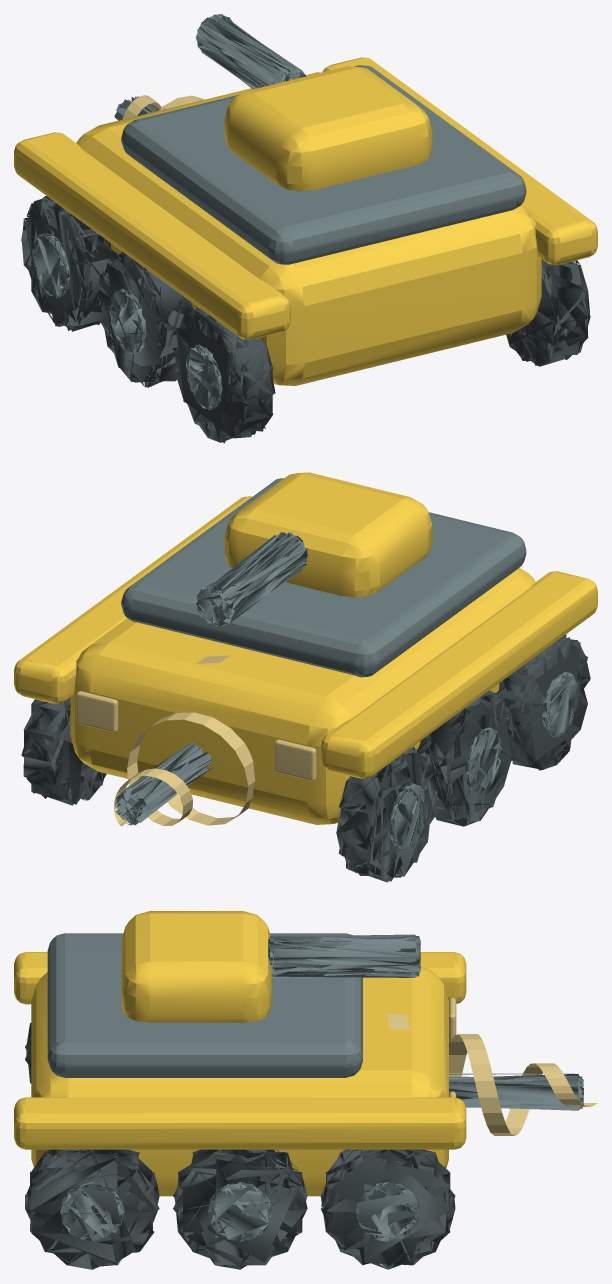
The model's file is vehicle_drill.glb.
3 views of the same model, one above another, from view 1: azimuth 30°, elevation 25°; view 2: azimuth 150°, elevation 25°; view 3: azimuth 270°, elevation 25° (orthographic). The views are drawn at different scales.
Parts seen in each view (by area): view 1: Surface_Uniform, Surface_Gunmetal, Surface_Uniform.001, Wheel, Wheel.002, Wheel.001, Wheel.003, Cannon, Hub.001, Hub.002, Hub, Surface_WorldBrass.001; view 2: Surface_Uniform, Surface_Gunmetal, Surface_Uniform.001, Wheel.002, Wheel.001, Wheel, Wheel.005, Cannon, Surface_WorldBrass.001, Surface_Gunmetal.001, Surface_WorldBrass, Hub.002 (+2 smaller); view 3: Surface_Uniform, Surface_Gunmetal, Surface_Uniform.001, Wheel.003, Wheel.005, Wheel.004, Cannon, Surface_WorldBrass.001, Surface_Gunmetal.001, Hub.004, Hub.005, Hub.003.
Boxes of the visible parts, x1=… form: Surface_Uniform: x1=14, y1=57, x2=597, y2=385; Surface_Gunmetal: x1=121, y1=65, x2=526, y2=264; Surface_Uniform.001: x1=224, y1=66, x2=432, y2=191; Wheel: x1=174, y1=308, x2=275, y2=443; Wheel.002: x1=21, y1=196, x2=117, y2=331; Wheel.001: x1=97, y1=251, x2=193, y2=387; Wheel.003: x1=506, y1=259, x2=590, y2=366; Cannon: x1=195, y1=14, x2=306, y2=89; Hub.001: x1=109, y1=288, x2=146, y2=354; Hub.002: x1=33, y1=233, x2=70, y2=298; Hub: x1=186, y1=344, x2=222, y2=410; Surface_WorldBrass.001: x1=122, y1=95, x2=225, y2=119; Surface_Uniform: x1=14, y1=496, x2=597, y2=824; Surface_Gunmetal: x1=121, y1=478, x2=526, y2=677; Surface_Uniform.001: x1=224, y1=472, x2=432, y2=597; Wheel.002: x1=336, y1=747, x2=437, y2=882; Wheel.001: x1=417, y1=690, x2=514, y2=826; Wheel: x1=496, y1=634, x2=590, y2=770; Wheel.005: x1=21, y1=698, x2=106, y2=805; Cannon: x1=196, y1=532, x2=308, y2=626; Surface_WorldBrass.001: x1=114, y1=655, x2=255, y2=826; Surface_Gunmetal.001: x1=114, y1=743, x2=213, y2=825; Surface_WorldBrass: x1=76, y1=691, x2=316, y2=780; Hub.002: x1=389, y1=783, x2=425, y2=848; Surface_Uniform: x1=14, y1=952, x2=466, y2=1196; Surface_Gunmetal: x1=47, y1=933, x2=362, y2=1077; Surface_Uniform.001: x1=121, y1=911, x2=271, y2=1022; Wheel.003: x1=25, y1=1149, x2=159, y2=1269; Wheel.005: x1=320, y1=1149, x2=455, y2=1269; Wheel.004: x1=173, y1=1149, x2=307, y2=1269; Cannon: x1=268, y1=934, x2=420, y2=977; Surface_WorldBrass.001: x1=387, y1=1014, x2=597, y2=1135; Surface_Gunmetal.001: x1=449, y1=1073, x2=583, y2=1110; Hub.004: x1=208, y1=1182, x2=272, y2=1241; Hub.005: x1=355, y1=1182, x2=420, y2=1241; Hub.003: x1=60, y1=1182, x2=124, y2=1241.
Size of the model in its own units: 1.86 by 1.28 by 2.68.
